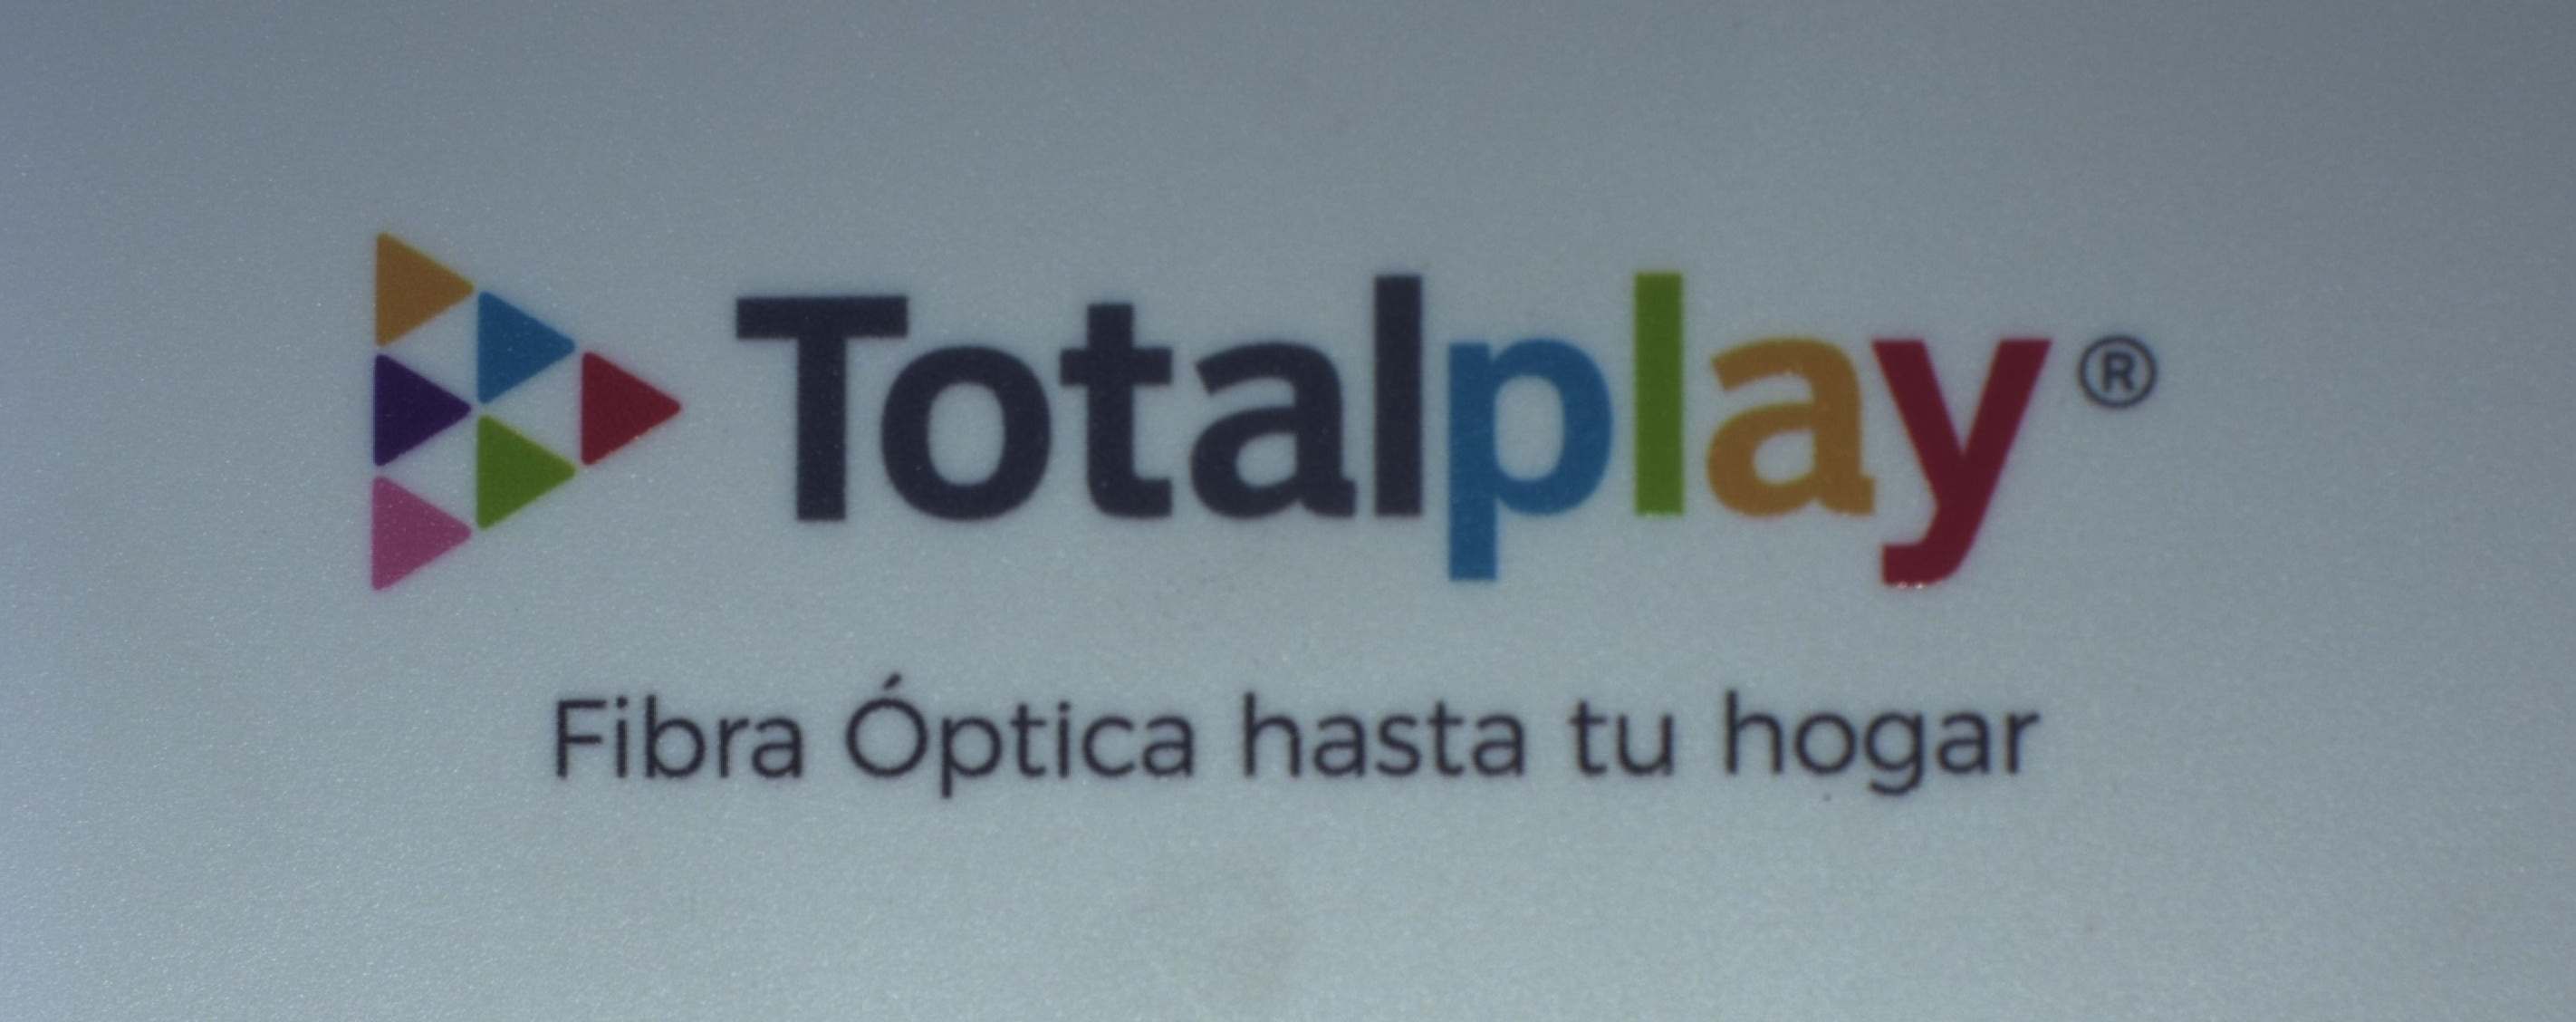BP_TotalPlay: (342, 184, 2165, 803)
